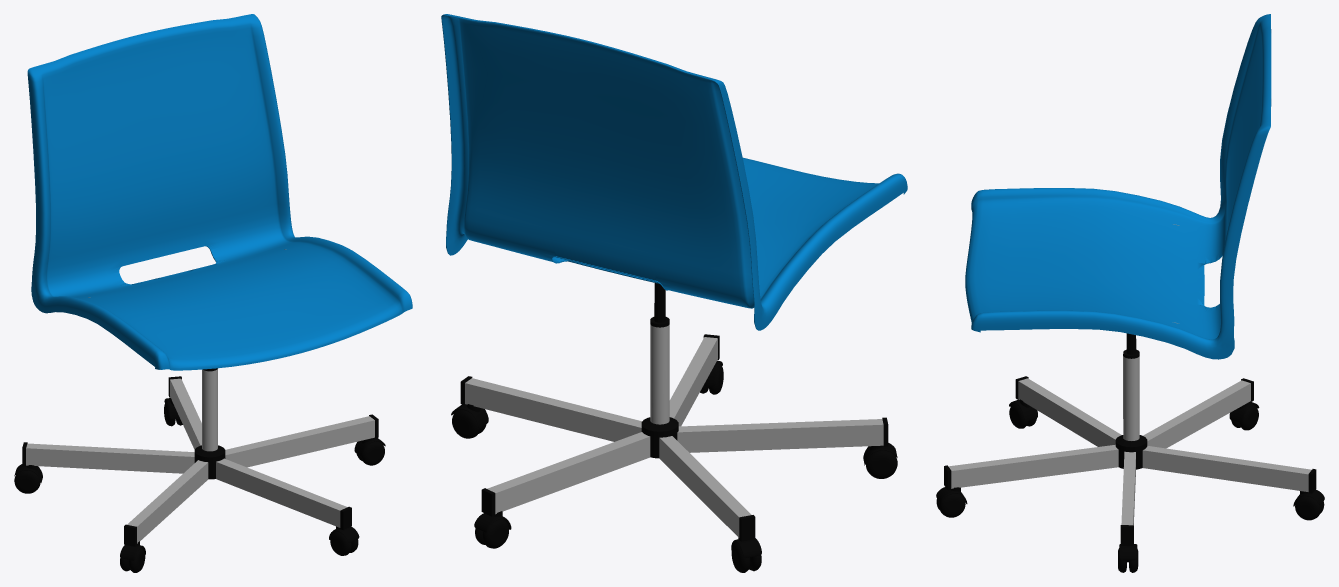
File: IKEA-Snille_Swivel_Chair-3d.FBX
3 renders of one model, left to right at view 1: azimuth 30°, elevation 25°; view 2: azimuth 150°, elevation 25°; view 3: azimuth 270°, elevation 25°, orthographic. The views are drawn at different scales.
Parts seen in each view (by area): view 1: Cylinder02; view 2: Cylinder02; view 3: Cylinder02.
Part boxes in pixels (x1,y1,x2,y2): Cylinder02: (14, 14, 412, 572); Cylinder02: (441, 14, 907, 572); Cylinder02: (936, 14, 1324, 572).
Size of the model in its own units: 0.7682 by 0.8026 by 0.9768.
